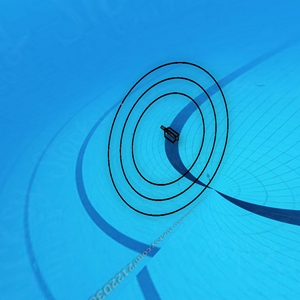circle: (106, 59, 229, 219)
submarine: (160, 126, 180, 145)
